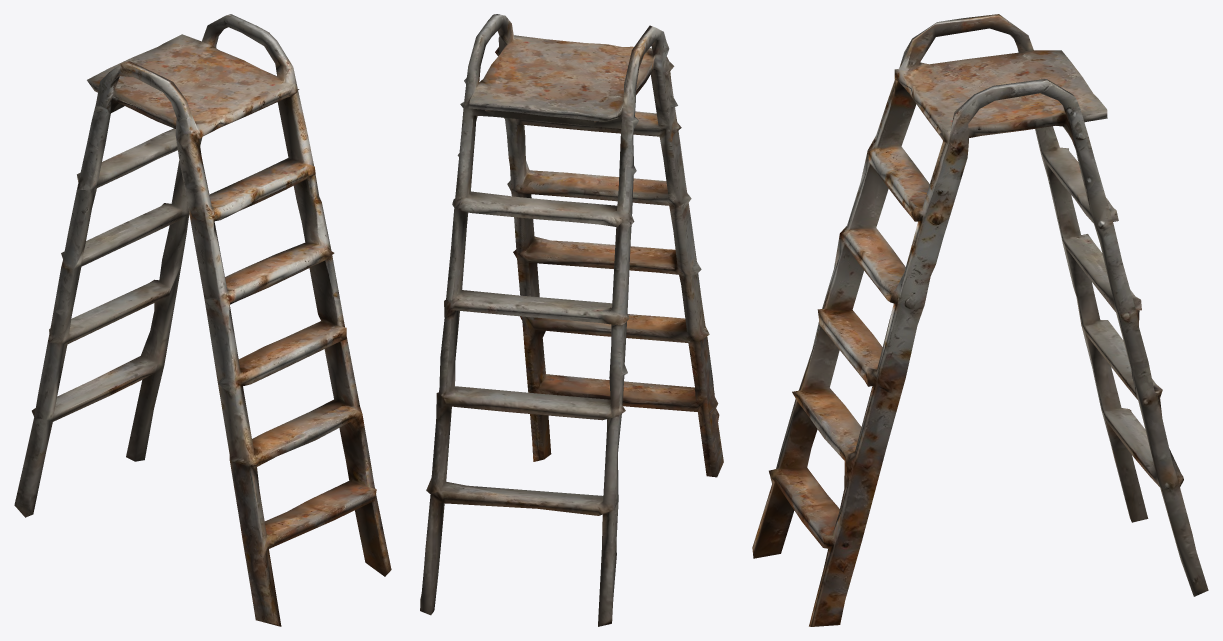
Rendered from d_ladder.glb.
3 renders of one model, left to right at view 1: azimuth 30°, elevation 25°; view 2: azimuth 150°, elevation 25°; view 3: azimuth 270°, elevation 25°, orthographic. The views are drawn at different scales.
Visible parts, largest first — view 1: tripo_node_44788320-c67b-4246-9953-25ab4da23286; view 2: tripo_node_44788320-c67b-4246-9953-25ab4da23286; view 3: tripo_node_44788320-c67b-4246-9953-25ab4da23286.
Boxes of the visible parts, bbox=[...] form: tripo_node_44788320-c67b-4246-9953-25ab4da23286: bbox=[14, 14, 391, 626]; tripo_node_44788320-c67b-4246-9953-25ab4da23286: bbox=[420, 14, 723, 626]; tripo_node_44788320-c67b-4246-9953-25ab4da23286: bbox=[752, 14, 1208, 626].
Bounding box in the file's own units: 0.4744 × 1 × 0.7891.
Materials: 1 (1 with a texture image).
